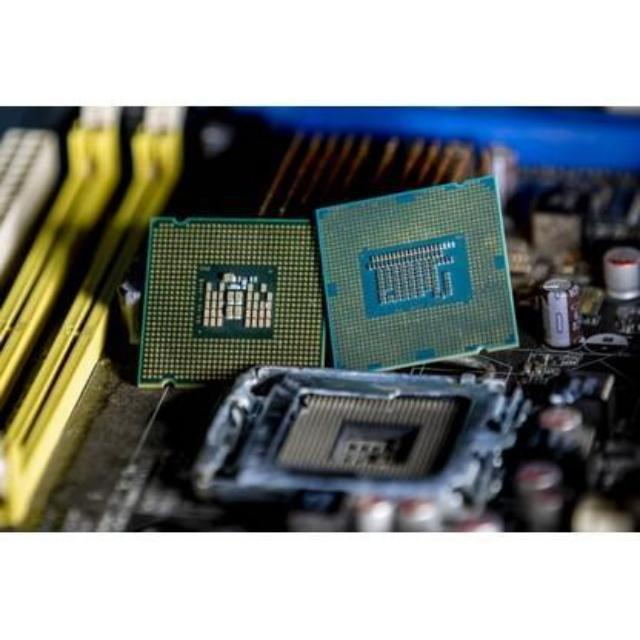CPU: (322, 180, 516, 374), (146, 212, 322, 392)
